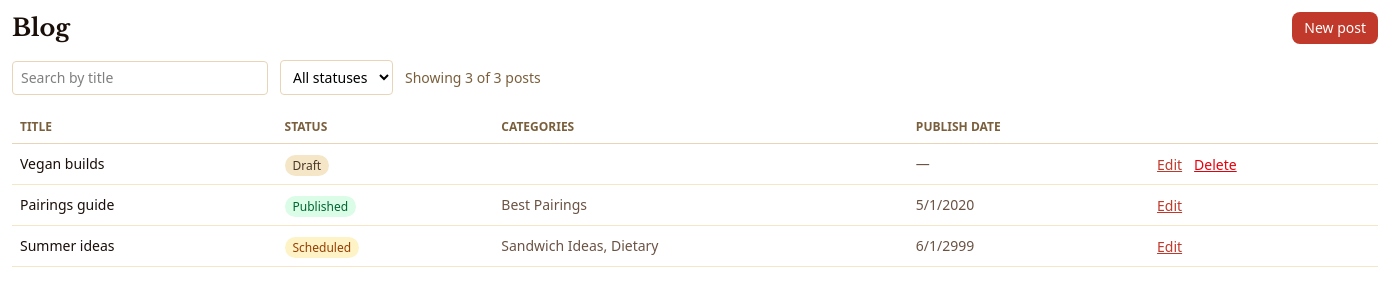
Test: BlogManagementPage list › finds posts by title
Expected: the text "Vegan builds" is shown, x1=12 y1=144 x2=276 y2=184
Type "pairings" into the search field named "Search posts".
click(140, 78); type("pairings")  # box x1=12 y1=60 x2=268 y2=94
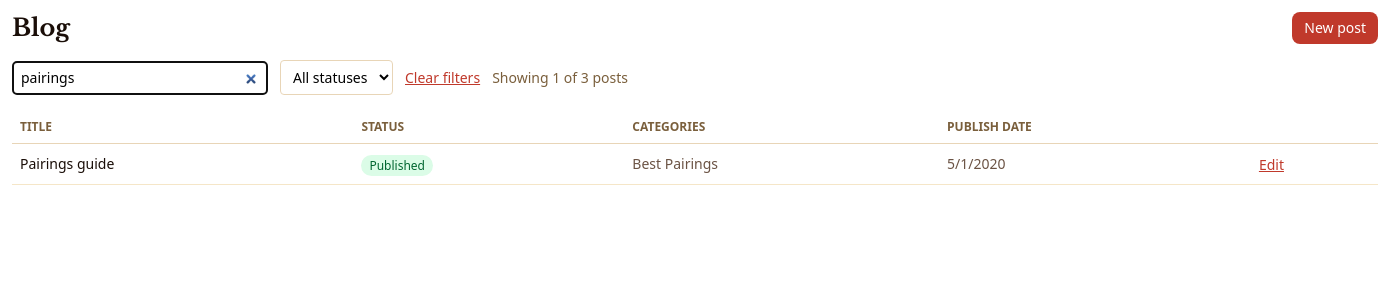
Expected: the text "Pairings guide" is shown, x1=12 y1=144 x2=353 y2=184
Result: the text "Vegan builds" is gone
Result: the text "Showing 1 of 3 posts" is shown at x1=492 y1=68 x2=628 y2=88
